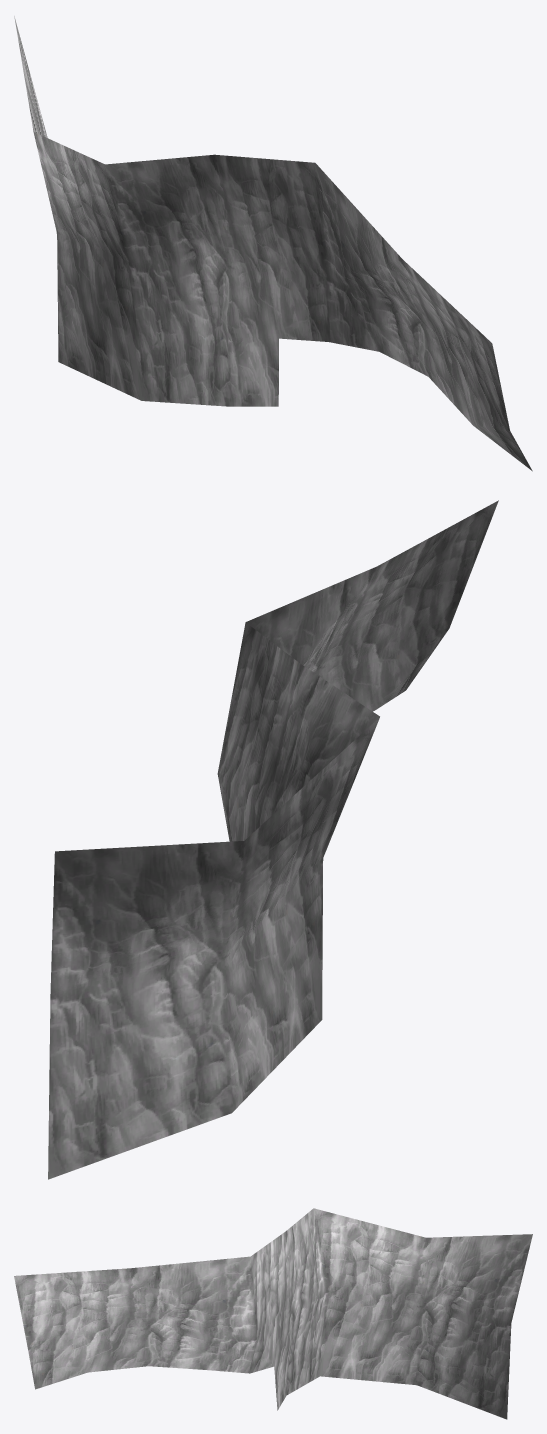
Rendered from SWORDLIGHT20_PS-AREA03_209.fbx.
3 views of the same model, one above another, from view 1: azimuth 30°, elevation 25°; view 2: azimuth 150°, elevation 25°; view 3: azimuth 270°, elevation 25° (orthographic). The views are drawn at different scales.
Parts seen in each view (by area): view 1: SWORDLIGHT20_PS-AREA03_209; view 2: SWORDLIGHT20_PS-AREA03_209; view 3: SWORDLIGHT20_PS-AREA03_209.
Boxes of the visible parts, left/top/right/bottom form: SWORDLIGHT20_PS-AREA03_209: left=14, top=16, right=532, bottom=471; SWORDLIGHT20_PS-AREA03_209: left=48, top=500, right=498, bottom=1179; SWORDLIGHT20_PS-AREA03_209: left=14, top=1208, right=532, bottom=1419.
Size of the model in its own units: 57718 by 78897 by 205320.
Materials: 1 (1 with a texture image).
